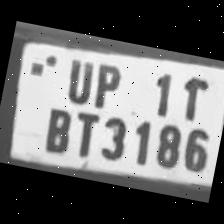1: (172, 69, 214, 122), (141, 65, 180, 119), (122, 114, 158, 168)
3: (92, 108, 133, 164)
6: (176, 122, 215, 176)
8: (149, 118, 187, 171)
B: (38, 100, 76, 156)
P: (86, 58, 126, 111)
T: (66, 106, 102, 160)
U: (57, 53, 98, 106)
